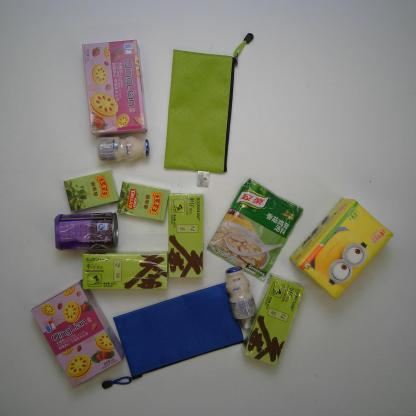Candy: (62, 168, 119, 211), (116, 181, 171, 221)
Canned Food: (54, 214, 118, 252)
Dessert: (30, 278, 125, 389), (79, 38, 152, 136)
Instant Drink: (244, 272, 306, 368), (81, 251, 168, 290), (167, 194, 205, 277)
Milk: (220, 266, 256, 324), (96, 133, 151, 163)
Seasoner: (209, 179, 303, 282)
Stationery: (102, 282, 246, 389), (164, 31, 256, 187)
Tissue: (290, 197, 395, 301)
